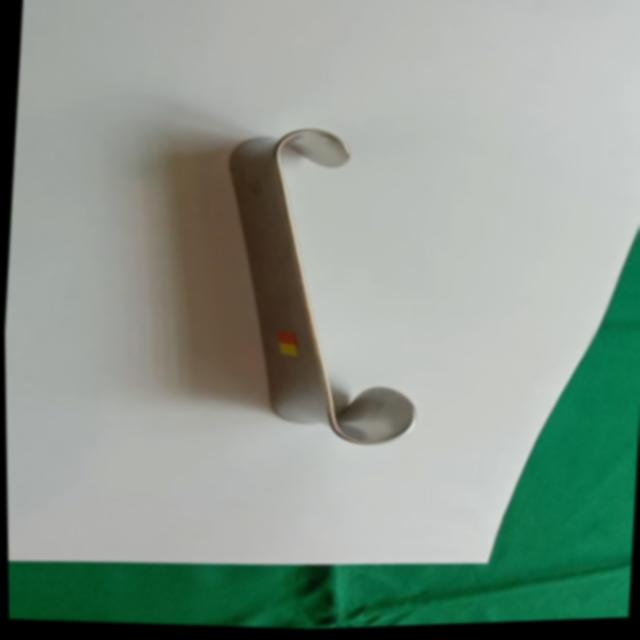CheekRetractor: (203, 121, 432, 457)
